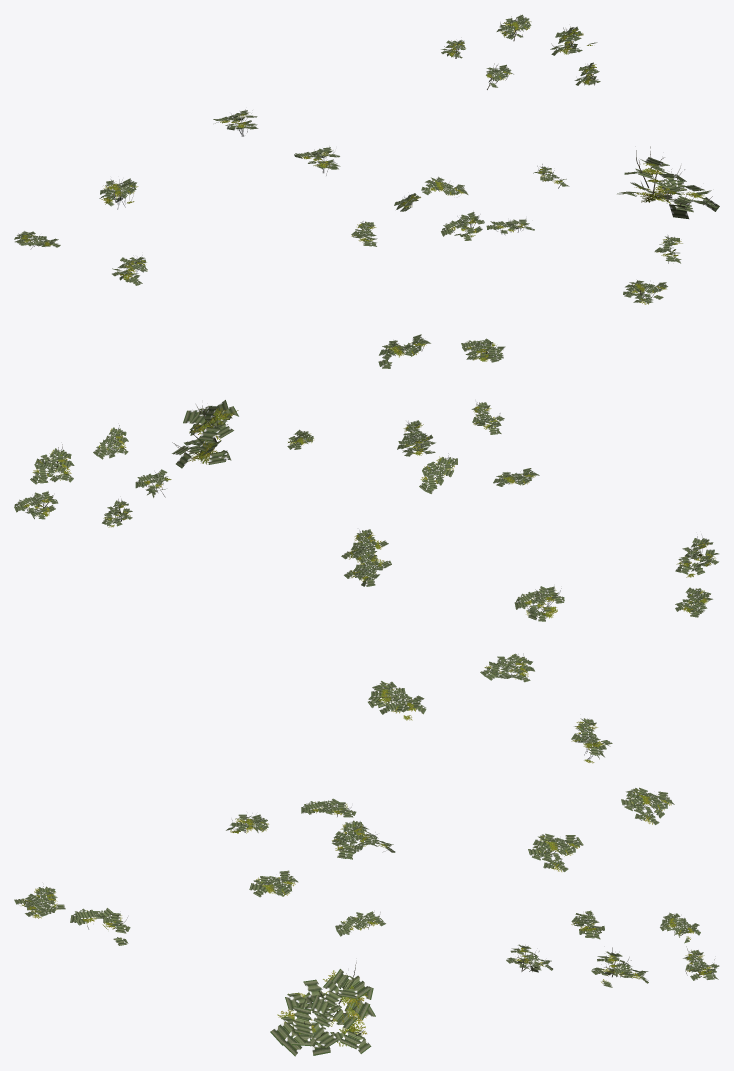
Rendered from S_Tree_3100_002.FBX.
3 renders of one model, top to bottom at view 1: azimuth 30°, elevation 25°; view 2: azimuth 150°, elevation 25°; view 3: azimuth 270°, elevation 25°, orthographic. The views are drawn at different scales.
Visible parts, largest first — view 1: S_Tree_Green018_006, S_Tree_Green018_017, S_Tree_Green018_009, S_Tree_Green018_013, S_Tree_Green018_018, S_Tree_Green018_003, S_Tree_Green018_015, S_Tree_Green018_016, S_Tree_Green018_001, S_Tree_Green018_011, S_Tree_Green018_019; view 2: S_Tree_Green018_006, S_Tree_Green018_017, S_Tree_Green018_003, S_Tree_Green018_018, S_Tree_Green018_016, S_Tree_Green018_012, S_Tree_Green018_008, S_Tree_Green018_009, S_Tree_Green018_001, S_Tree_Green018_005, S_Tree_Green018_019, S_Tree_Green018_015 (+5 smaller); view 3: S_Tree_Green018_006, S_Tree_Green018_018, S_Tree_Green018_015, S_Tree_Green018_016, S_Tree_Green018_011, S_Tree_Green018_019, S_Tree_Green018_009, S_Tree_Green018_008, S_Tree_Green018_003, S_Tree_Green018_017, S_Tree_Green018_010, S_Tree_Green018_001 (+2 smaller).
Boxes of the visible parts, x1,y1,x2,y2 form: S_Tree_Green018_006: [617, 146, 719, 218]; S_Tree_Green018_017: [99, 178, 138, 209]; S_Tree_Green018_009: [623, 280, 667, 304]; S_Tree_Green018_013: [441, 211, 484, 240]; S_Tree_Green018_018: [112, 255, 147, 285]; S_Tree_Green018_003: [550, 26, 597, 55]; S_Tree_Green018_015: [294, 146, 340, 175]; S_Tree_Green018_016: [213, 109, 258, 136]; S_Tree_Green018_001: [496, 14, 531, 41]; S_Tree_Green018_011: [421, 176, 468, 195]; S_Tree_Green018_019: [14, 231, 60, 249]; S_Tree_Green018_006: [172, 400, 238, 468]; S_Tree_Green018_017: [514, 586, 564, 621]; S_Tree_Green018_003: [30, 444, 74, 484]; S_Tree_Green018_018: [675, 534, 718, 577]; S_Tree_Green018_016: [344, 550, 391, 586]; S_Tree_Green018_012: [419, 453, 457, 493]; S_Tree_Green018_008: [378, 334, 430, 368]; S_Tree_Green018_009: [461, 338, 505, 362]; S_Tree_Green018_001: [14, 491, 58, 519]; S_Tree_Green018_005: [93, 425, 128, 459]; S_Tree_Green018_019: [675, 587, 712, 617]; S_Tree_Green018_015: [341, 529, 388, 560]; S_Tree_Green018_006: [270, 962, 375, 1056]; S_Tree_Green018_018: [368, 681, 426, 720]; S_Tree_Green018_015: [528, 833, 583, 871]; S_Tree_Green018_016: [621, 787, 674, 824]; S_Tree_Green018_011: [332, 816, 375, 859]; S_Tree_Green018_019: [480, 653, 534, 682]; S_Tree_Green018_009: [14, 886, 65, 918]; S_Tree_Green018_008: [70, 908, 130, 945]; S_Tree_Green018_003: [591, 947, 648, 987]; S_Tree_Green018_017: [571, 718, 612, 763]; S_Tree_Green018_010: [249, 870, 298, 897]; S_Tree_Green018_001: [683, 946, 719, 980].
Bounding box in the file's own units: 13576 × 2111 × 11497.
